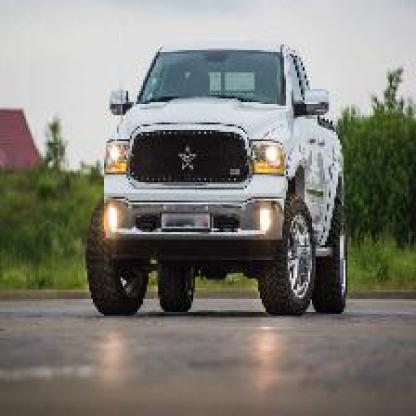not_emergency: (61, 34, 383, 349)
